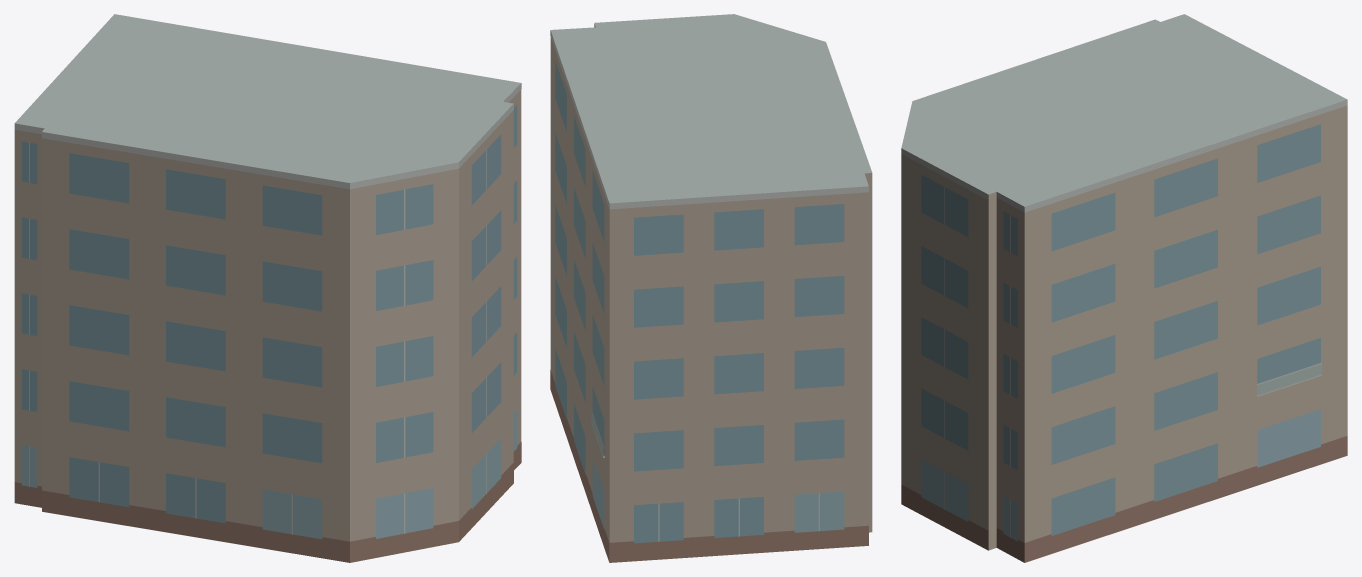
The model's file is survey-upis-32707240.glb.
3 renders of one model, left to right at view 1: azimuth 30°, elevation 25°; view 2: azimuth 150°, elevation 25°; view 3: azimuth 270°, elevation 25°, orthographic. The views are drawn at different scales.
Parts seen in each view (by area): view 1: survey-upis-32707240.tmp; view 2: survey-upis-32707240.tmp; view 3: survey-upis-32707240.tmp.
Boxes of the visible parts, x1,y1,x2,y2 form: survey-upis-32707240.tmp: [14, 14, 521, 562]; survey-upis-32707240.tmp: [550, 14, 872, 562]; survey-upis-32707240.tmp: [901, 14, 1347, 562].
Size of the model in its own units: 17.2 by 14.8 by 16.83.
